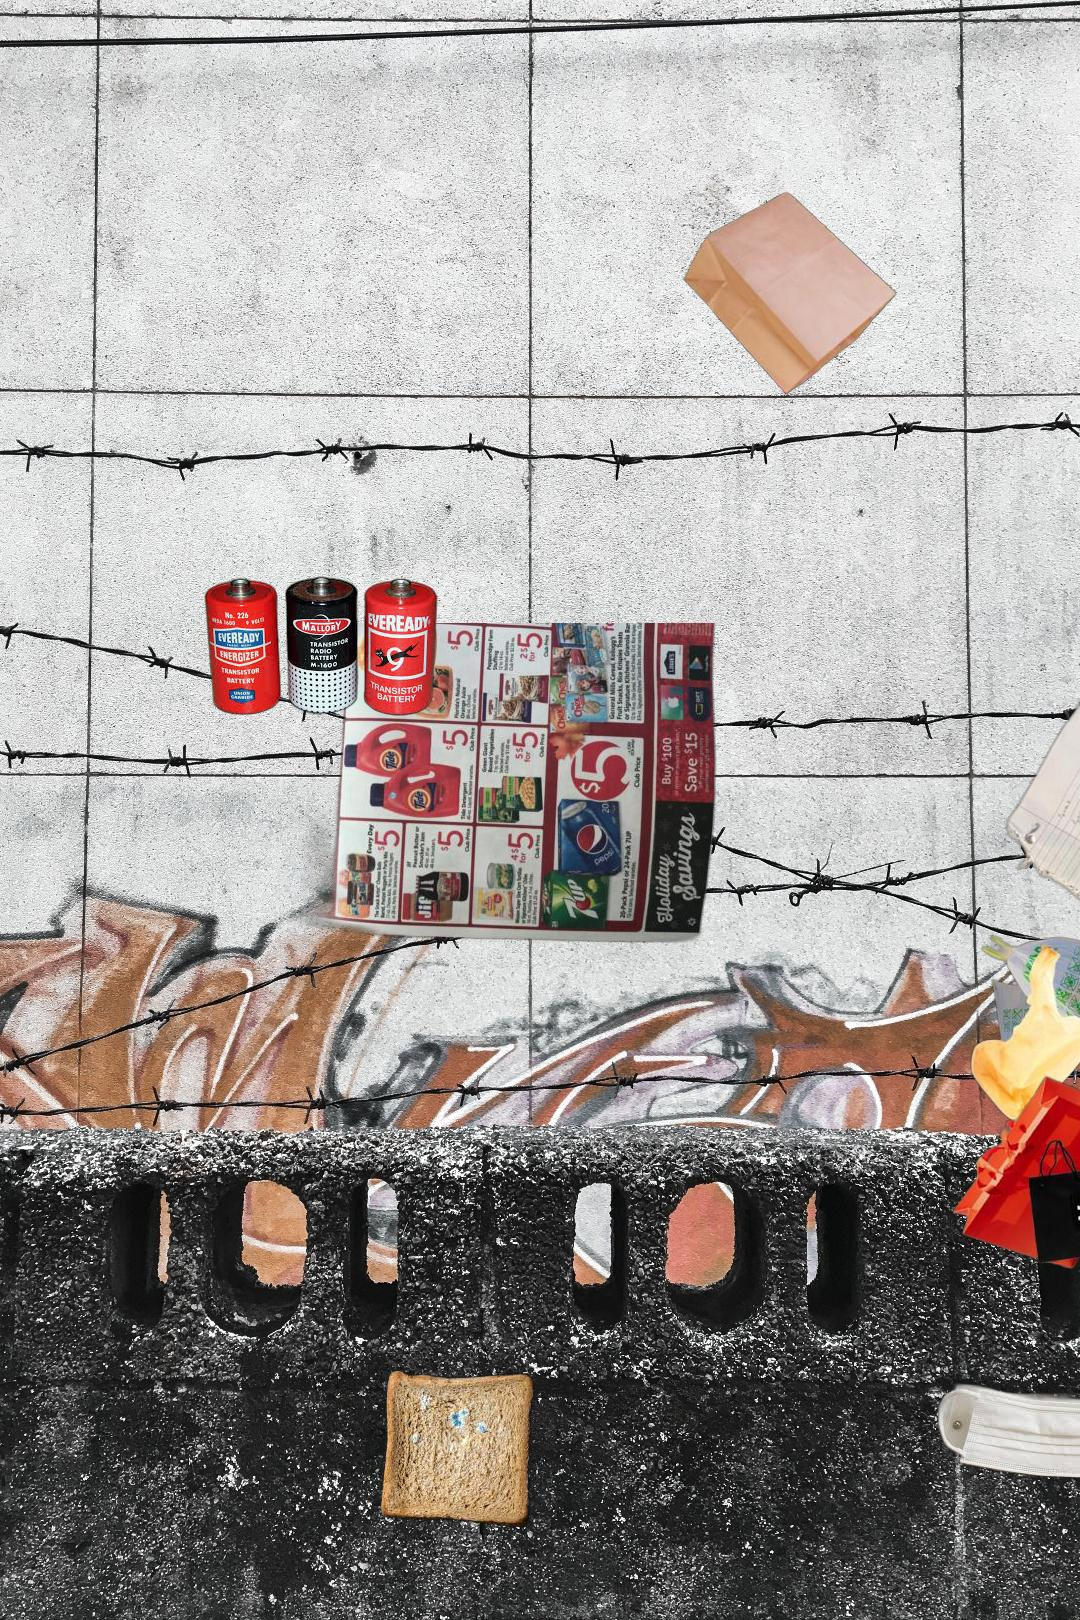battery: (202, 574, 440, 718)
biological: (377, 1368, 535, 1530)
paper: (292, 623, 720, 994), (1003, 648, 1080, 1002)
paper-bag: (679, 189, 898, 397), (950, 1074, 1080, 1270)
plastic-bag: (968, 934, 1080, 1132)
trash: (933, 1375, 1080, 1487)
